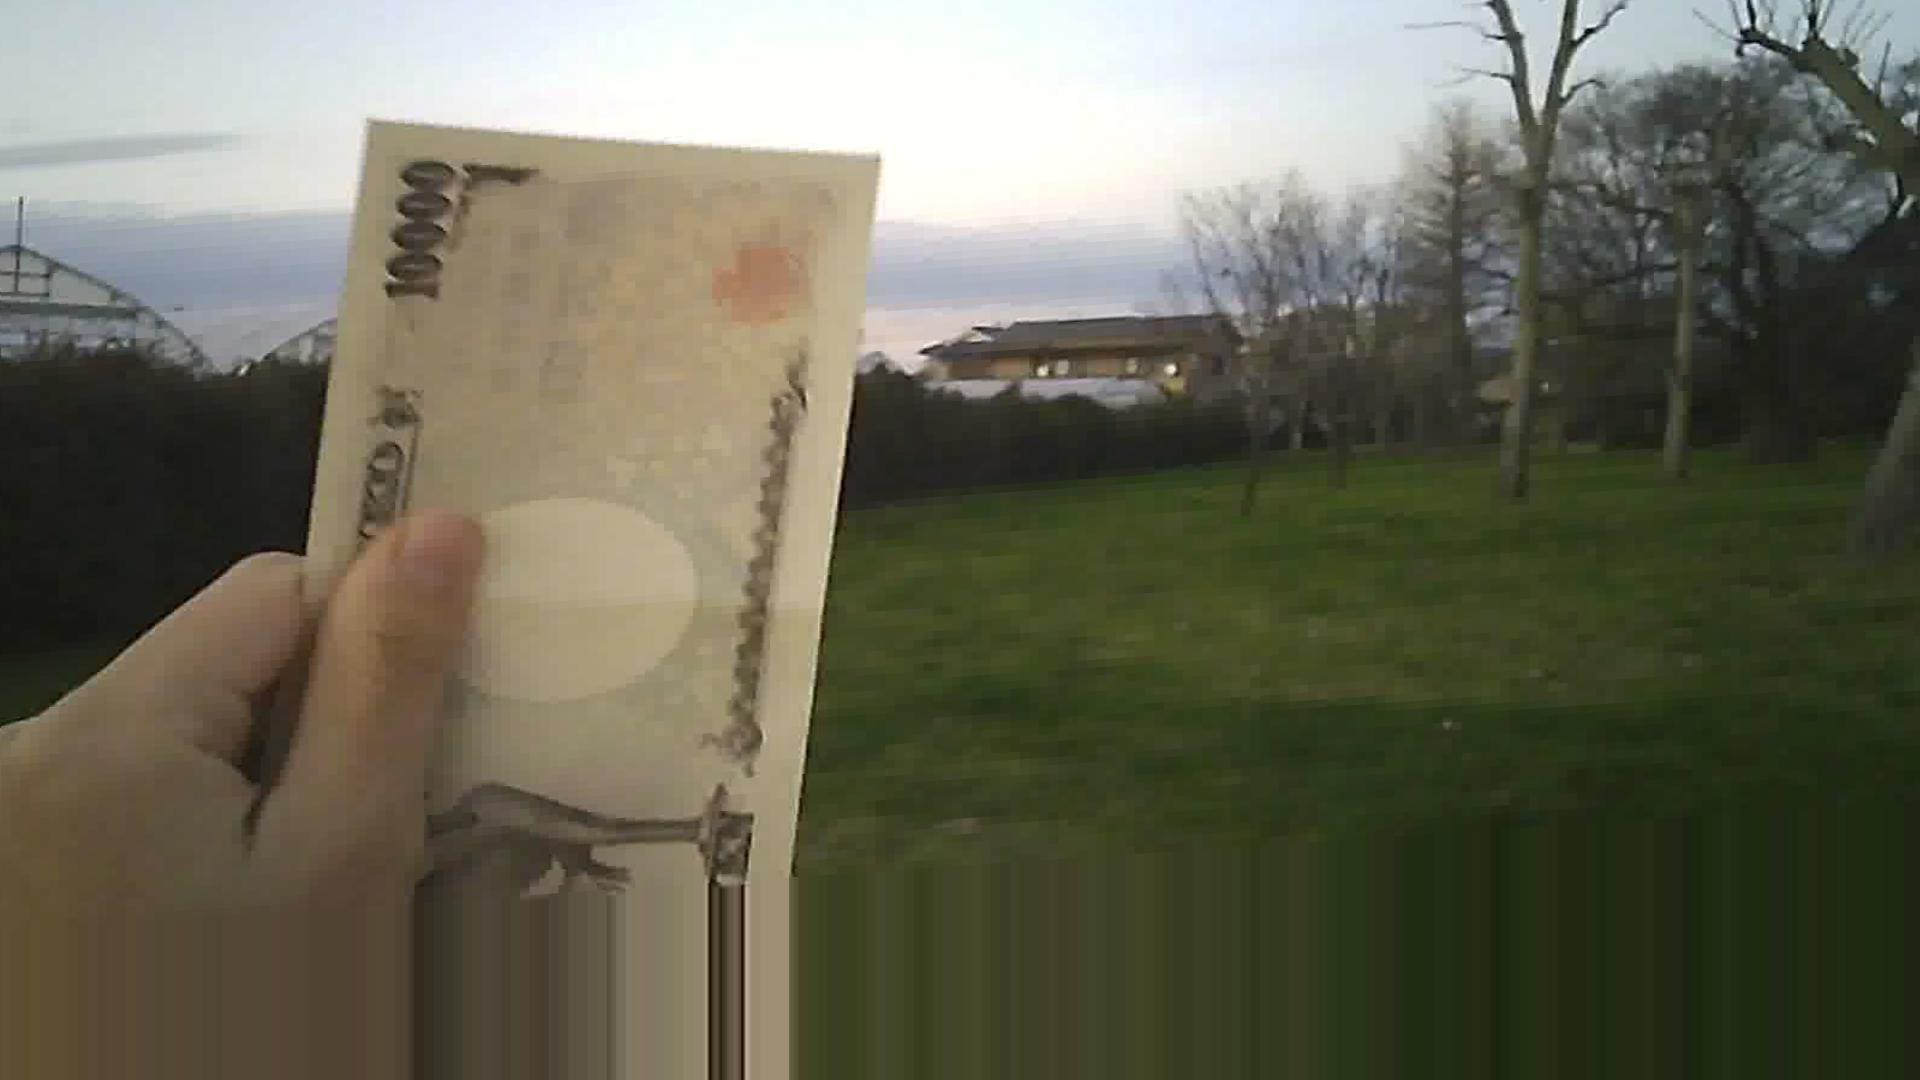10,000 Yen: (229, 103, 860, 858)
